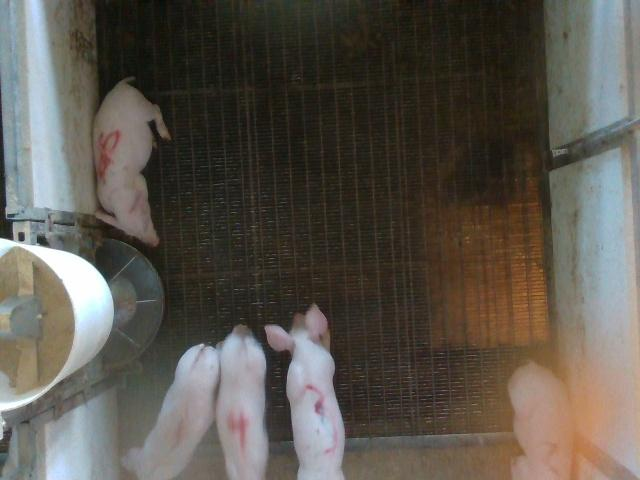pig-1: (122, 344, 220, 479)
pig-2: (508, 361, 571, 478)
pig-3: (265, 304, 345, 478)
pig-4: (218, 325, 269, 478)
pig-5: (94, 78, 171, 246)
